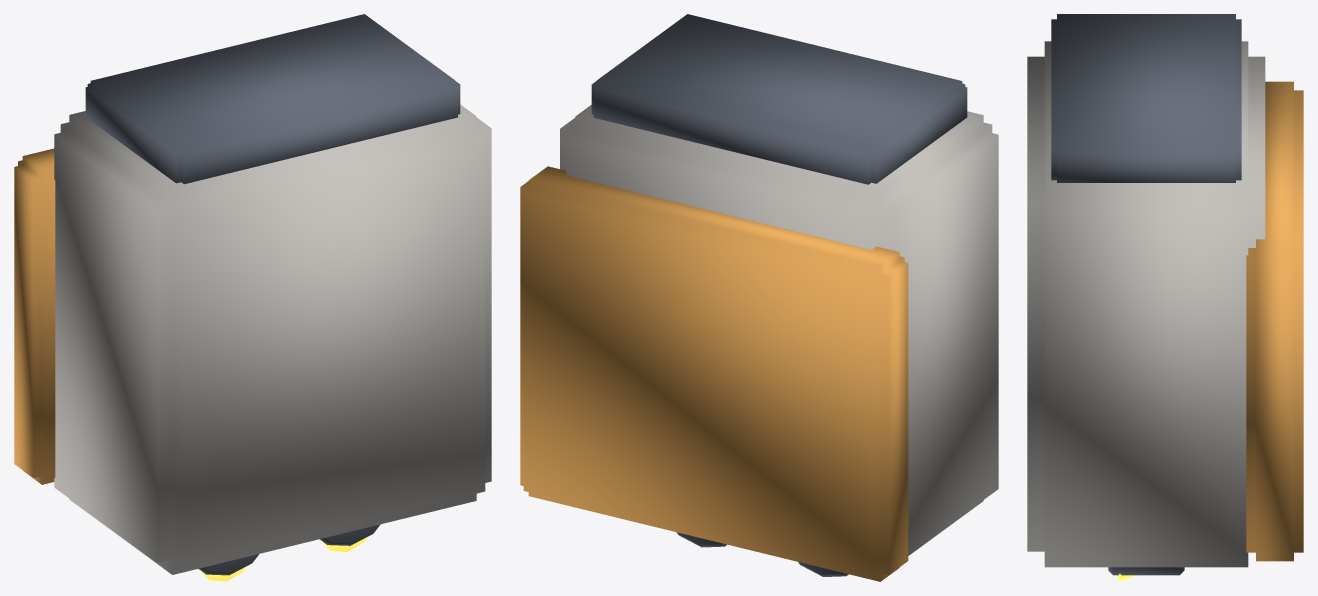
File: rocket_pod_2.glb
3 renders of one model, left to right at view 1: azimuth 30°, elevation 25°; view 2: azimuth 150°, elevation 25°; view 3: azimuth 270°, elevation 25°, orthographic.
Visible parts, largest first — view 1: rocket_pod_2; view 2: rocket_pod_2; view 3: rocket_pod_2.
Part boxes in pixels (x1,y1,x2,y2): rocket_pod_2: (14,14,491,581); rocket_pod_2: (520,14,998,581); rocket_pod_2: (1027,14,1303,581).
Bounding box in the file's own units: 0.44 × 0.5453 × 0.29.
